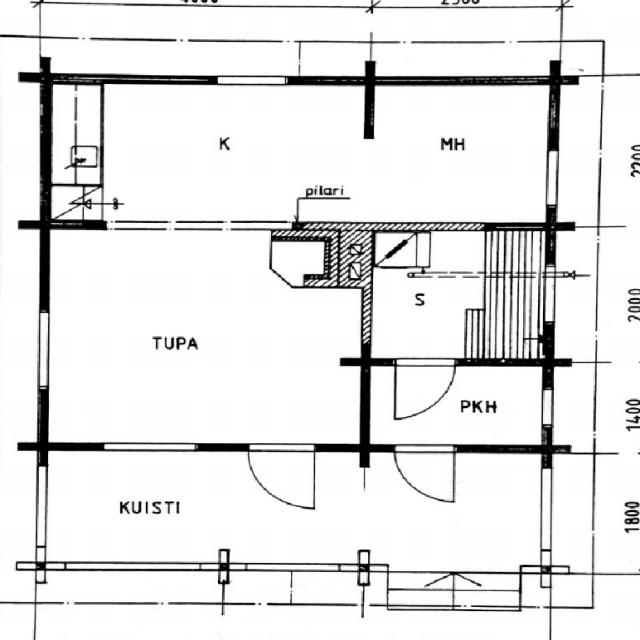door: (248, 445, 314, 508), (395, 358, 454, 416), (394, 445, 454, 502)
